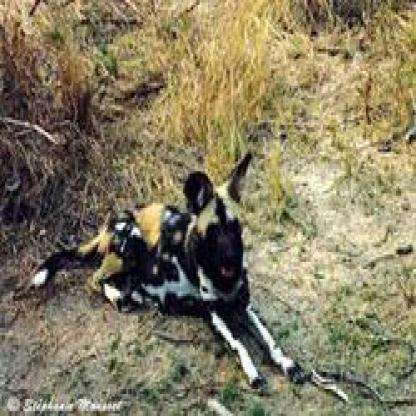African_hunting_dog: (18, 147, 306, 389)
